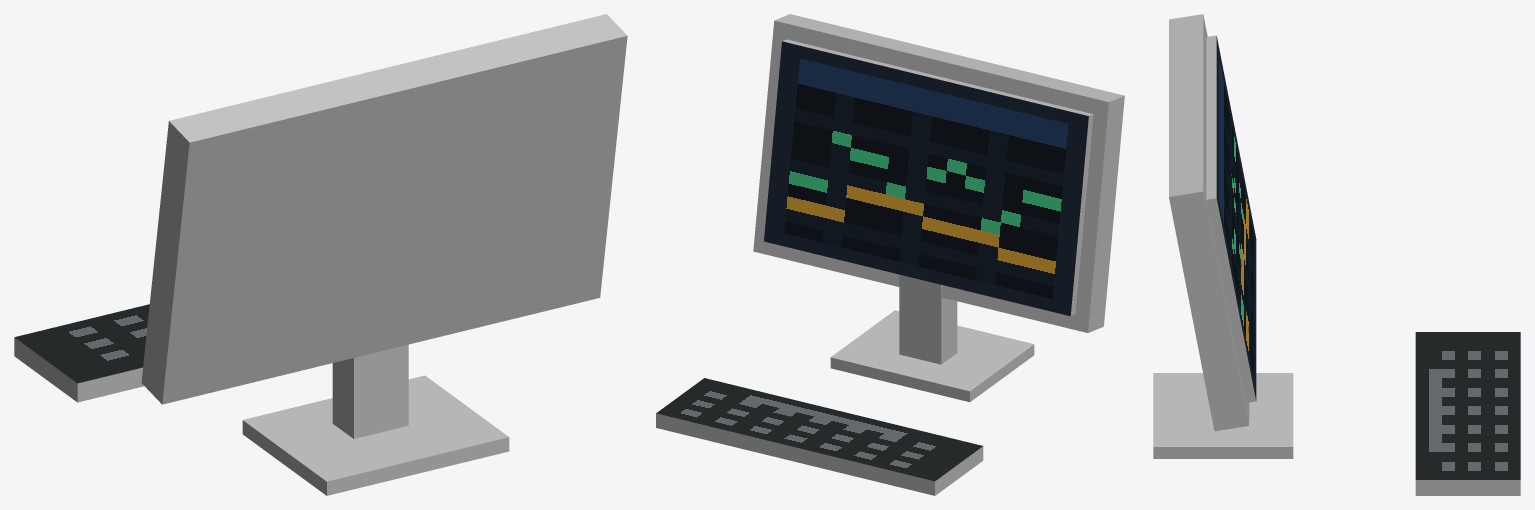
The model's file is desk_round_flat_mirrored.obj.
The picture shows the model from 3 angles, left to right: view 1: azimuth 30°, elevation 25°; view 2: azimuth 150°, elevation 25°; view 3: azimuth 270°, elevation 25°; orthographic projection. The views are drawn at different scales.
Parts seen in each view (by area): view 1: desk_round_flat_mirrored; view 2: desk_round_flat_mirrored; view 3: desk_round_flat_mirrored.
Boxes of the visible parts, box(x1,y1,x2,y2) form: desk_round_flat_mirrored: box(14, 14, 627, 495); desk_round_flat_mirrored: box(656, 14, 1124, 495); desk_round_flat_mirrored: box(1153, 14, 1520, 495).
Size of the model in its own units: 0.48 by 0.4024 by 0.42.
